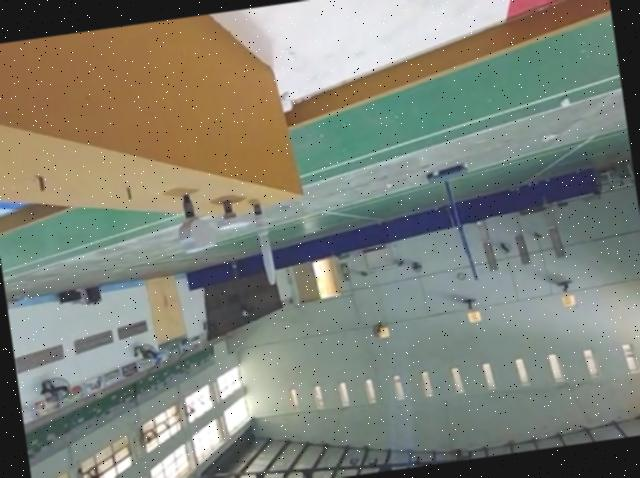Fist: (170, 189, 216, 257)
Hand: (215, 197, 250, 230)
Sph: (249, 199, 279, 287)
